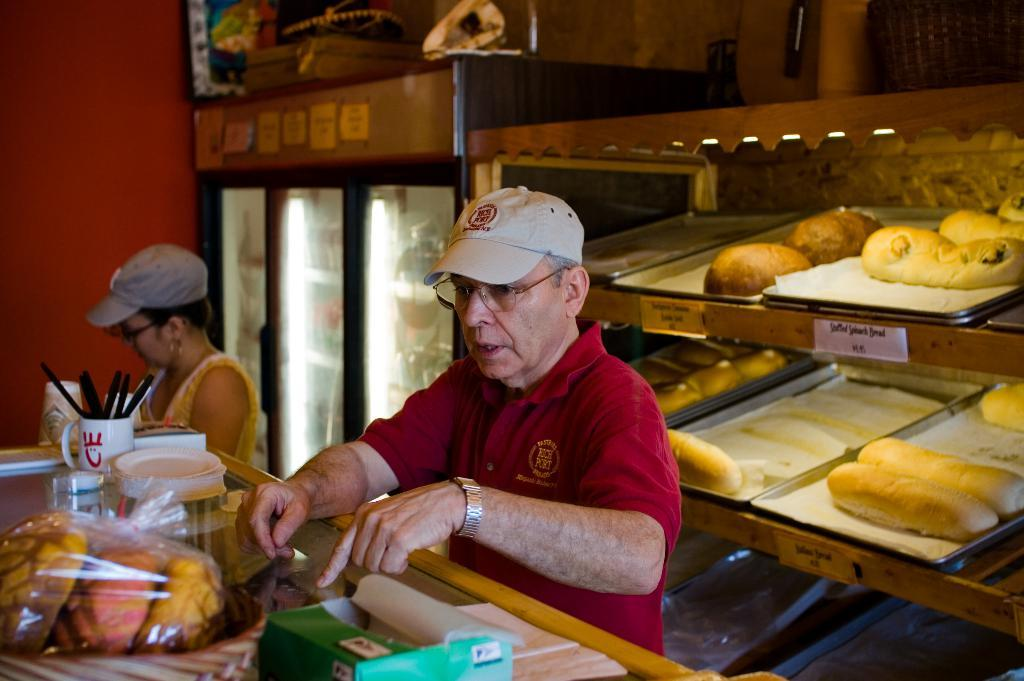Hat: (420, 179, 589, 283), (84, 244, 215, 334)
